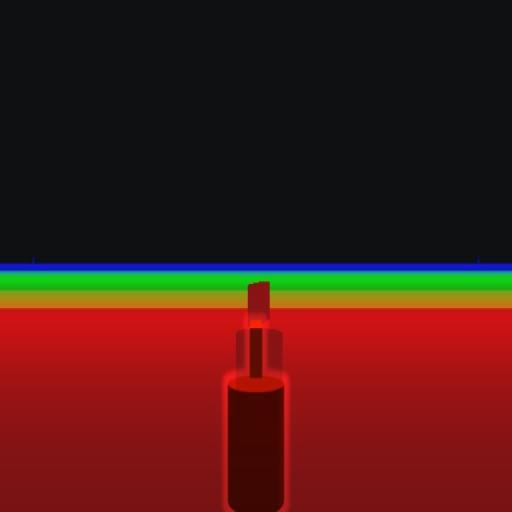floating_obstacle: (226, 329, 284, 509)
